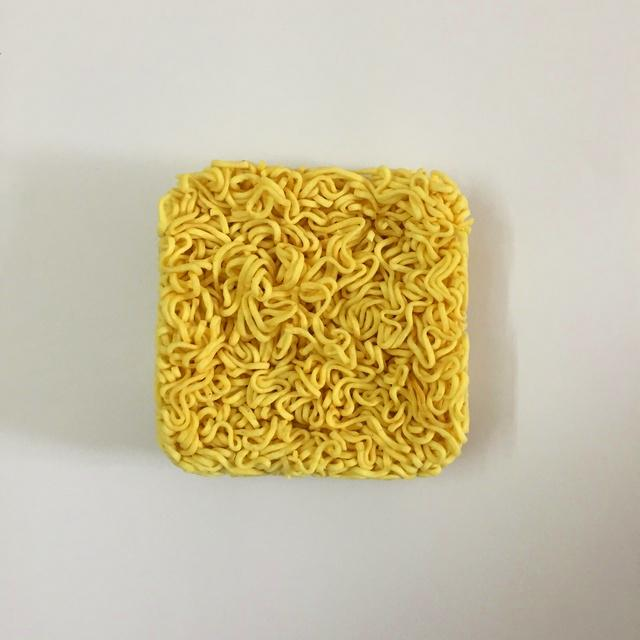noodles: (145, 149, 483, 486)
